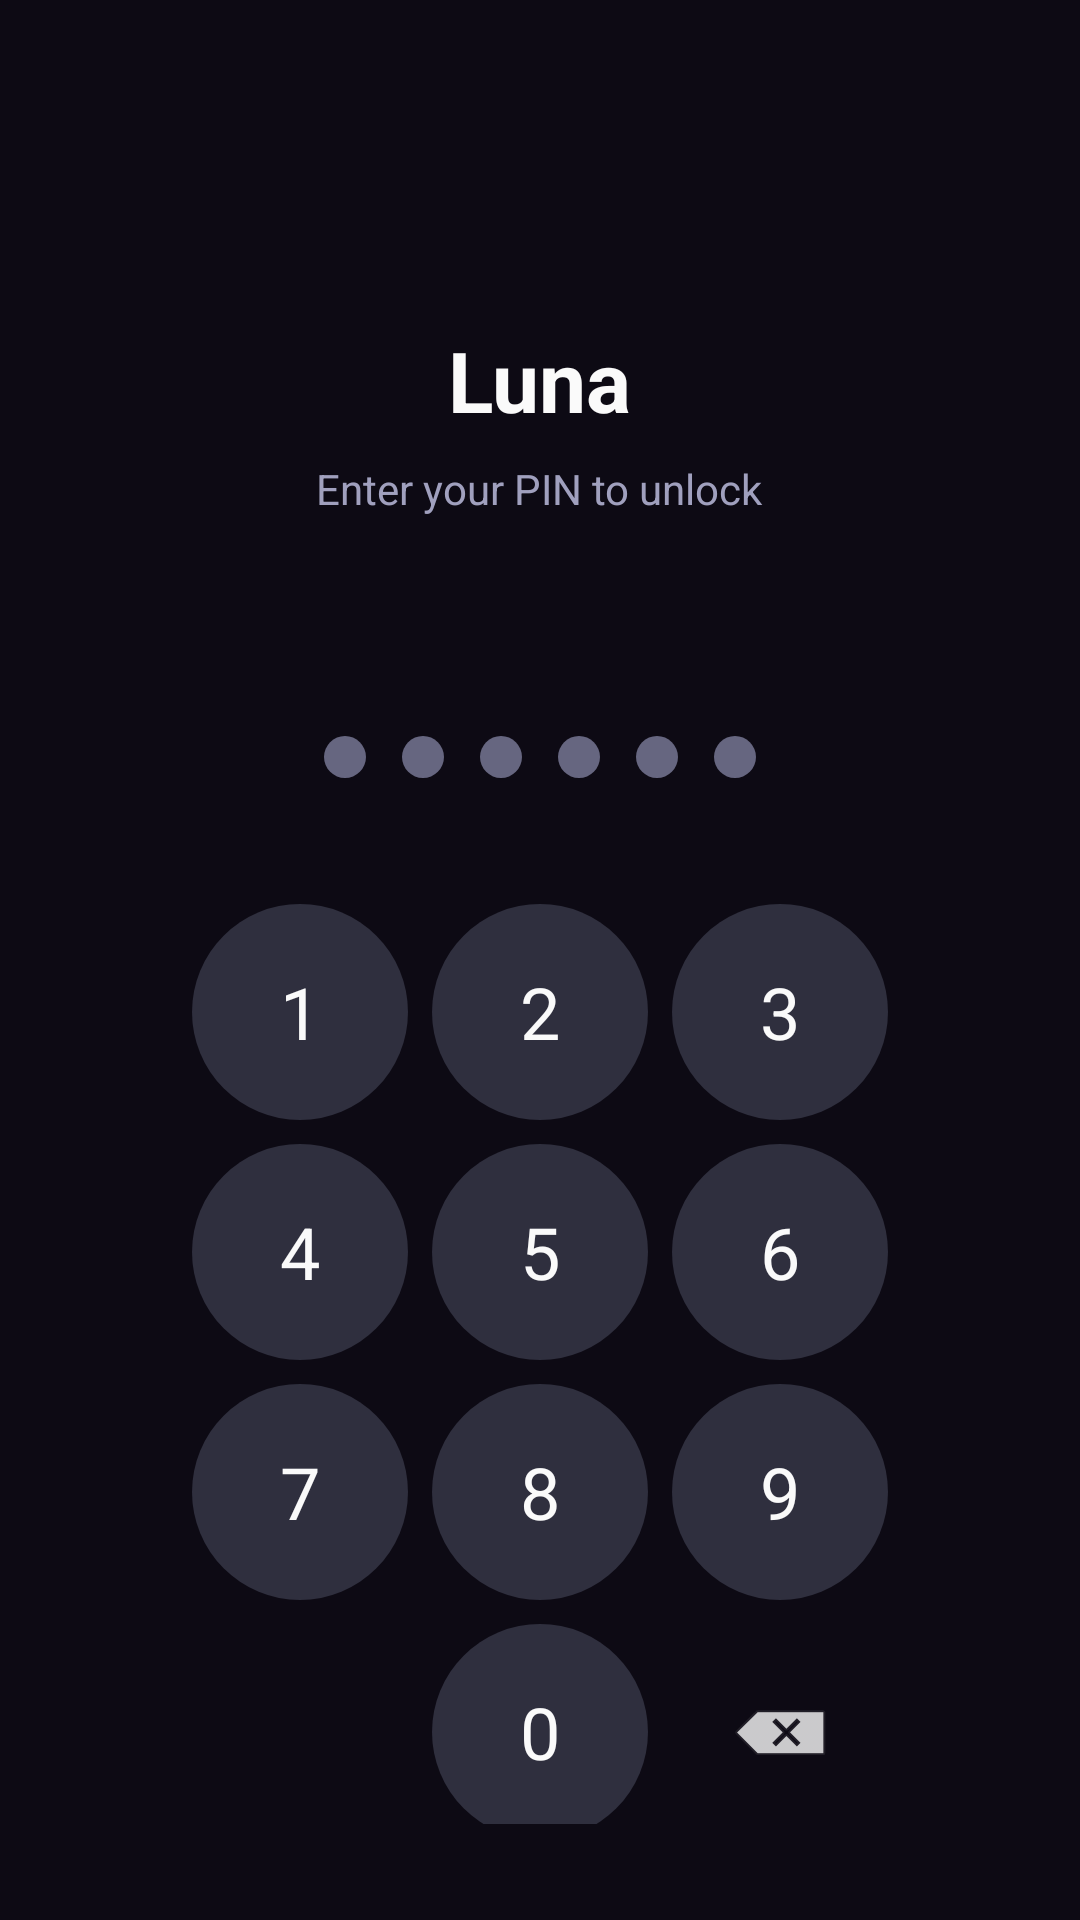

Screen size 1080x1920. Icon name, then its box in pixels as bbox=[x1, y1, x2, y2]:
Delete last digit: bbox=[737, 1712, 824, 1754]
